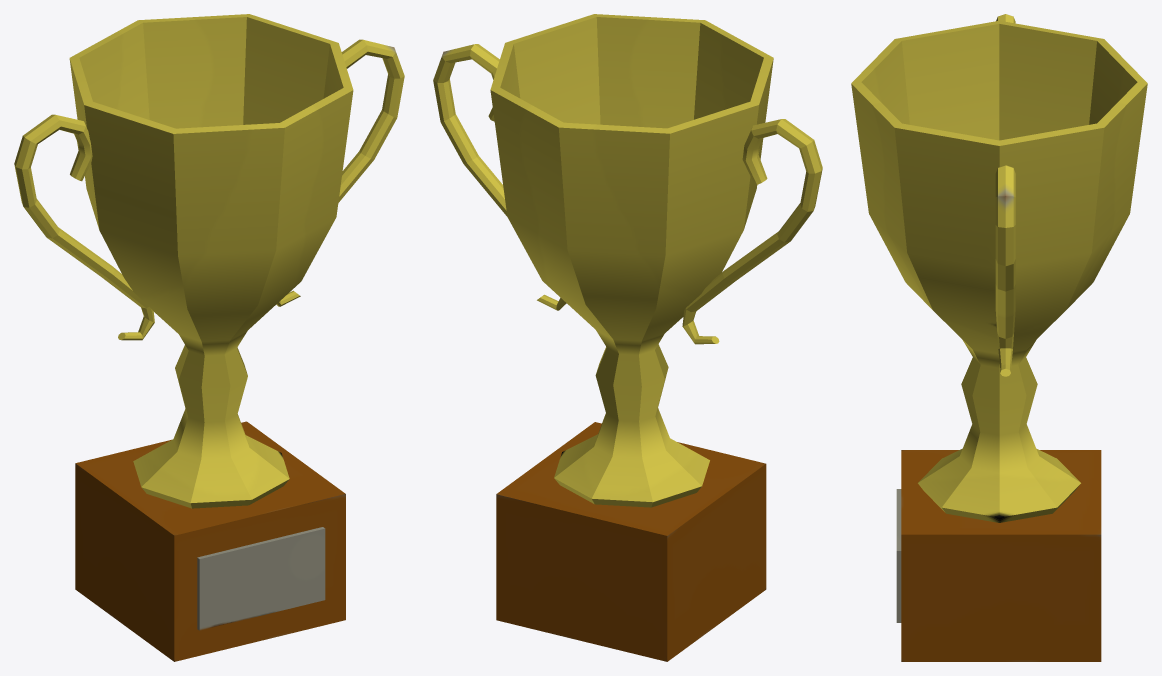
The model's file is Trophy.fbx.
The picture shows the model from 3 angles, left to right: view 1: azimuth 30°, elevation 25°; view 2: azimuth 150°, elevation 25°; view 3: azimuth 270°, elevation 25°; orthographic projection.
Visible parts, largest first — view 1: Trophy; view 2: Trophy; view 3: Trophy.
Boxes of the visible parts, x1,y1,x2,y2 form: Trophy: (14,14,404,661); Trophy: (433,14,822,661); Trophy: (851,14,1147,661).
Bounding box in the file's own units: 2.26 × 2.97 × 1.48.
